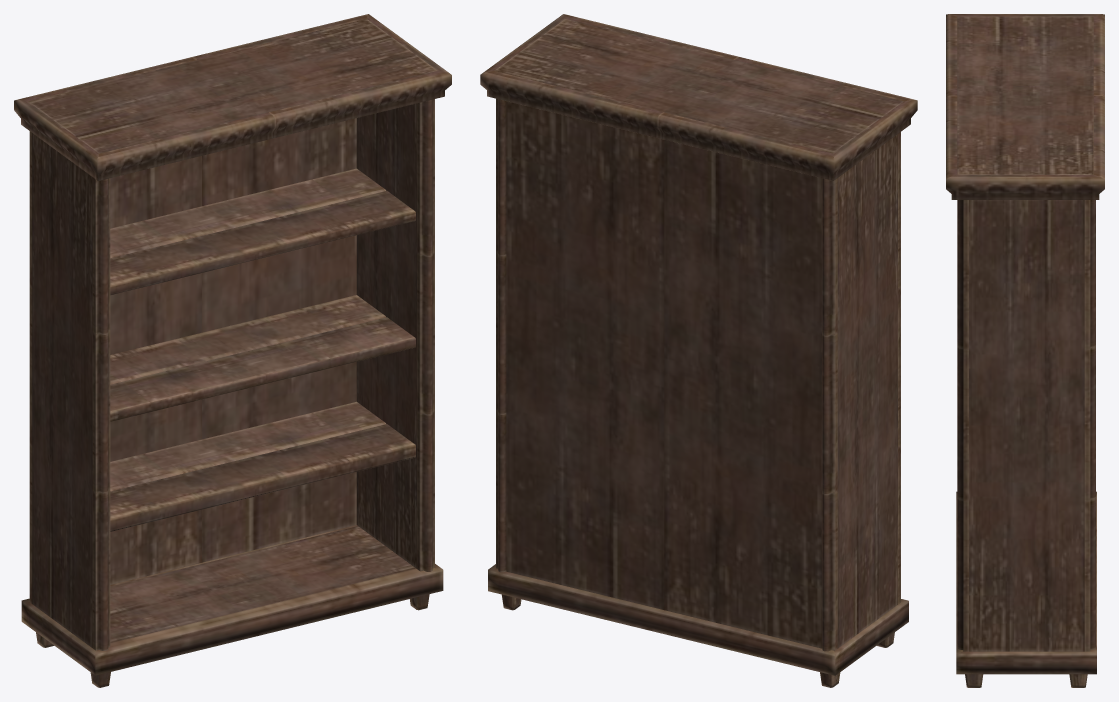
The model's file is t1_cabinet_carved_wooden_large.glb.
The picture shows the model from 3 angles, left to right: view 1: azimuth 30°, elevation 25°; view 2: azimuth 150°, elevation 25°; view 3: azimuth 270°, elevation 25°; orthographic projection. The views are drawn at different scales.
Visible parts, largest first — view 1: ensemble_set_dungeon_shelf_large; view 2: ensemble_set_dungeon_shelf_large; view 3: ensemble_set_dungeon_shelf_large.
Boxes of the visible parts, x1,y1,x2,y2 form: ensemble_set_dungeon_shelf_large: [14, 14, 451, 687]; ensemble_set_dungeon_shelf_large: [480, 14, 917, 687]; ensemble_set_dungeon_shelf_large: [946, 14, 1104, 687].
Bounding box in the file's own units: 2.06 × 2.99 × 0.8367.
1 material, 1 textured.
